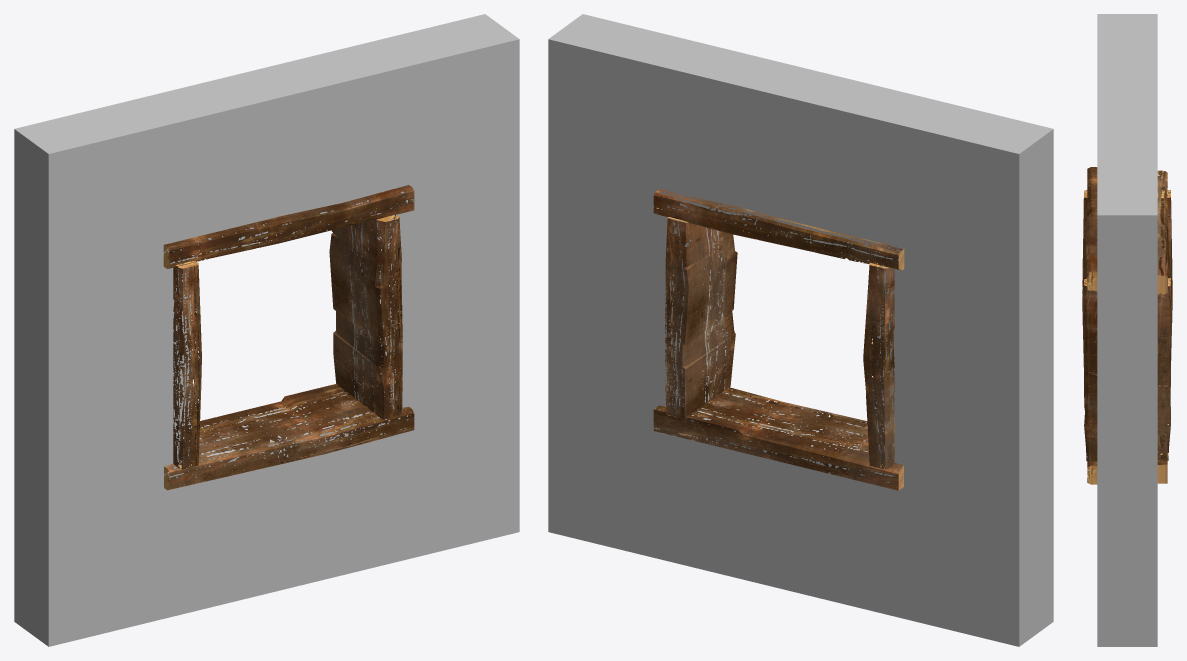
The picture shows the model from 3 angles, left to right: view 1: azimuth 30°, elevation 25°; view 2: azimuth 150°, elevation 25°; view 3: azimuth 270°, elevation 25°; orthographic projection. The views are drawn at different scales.
Visible parts, largest first — view 1: SM_BB_T4_Wall_Large_Windowframe_02_LOD0; view 2: SM_BB_T4_Wall_Large_Windowframe_02_LOD0; view 3: SM_BB_T4_Wall_Large_Windowframe_02_LOD0.
Boxes of the visible parts, left/top/right/bottom form: SM_BB_T4_Wall_Large_Windowframe_02_LOD0: left=14, top=14, right=519, bottom=646; SM_BB_T4_Wall_Large_Windowframe_02_LOD0: left=548, top=14, right=1053, bottom=646; SM_BB_T4_Wall_Large_Windowframe_02_LOD0: left=1082, top=14, right=1172, bottom=646.
Bounding box in the file's own units: 3 × 3 × 0.5701.
